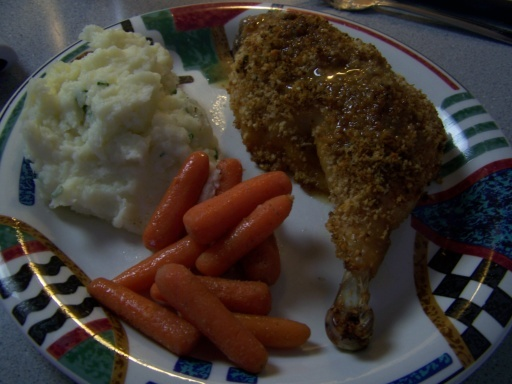background: (18, 6, 359, 223)
